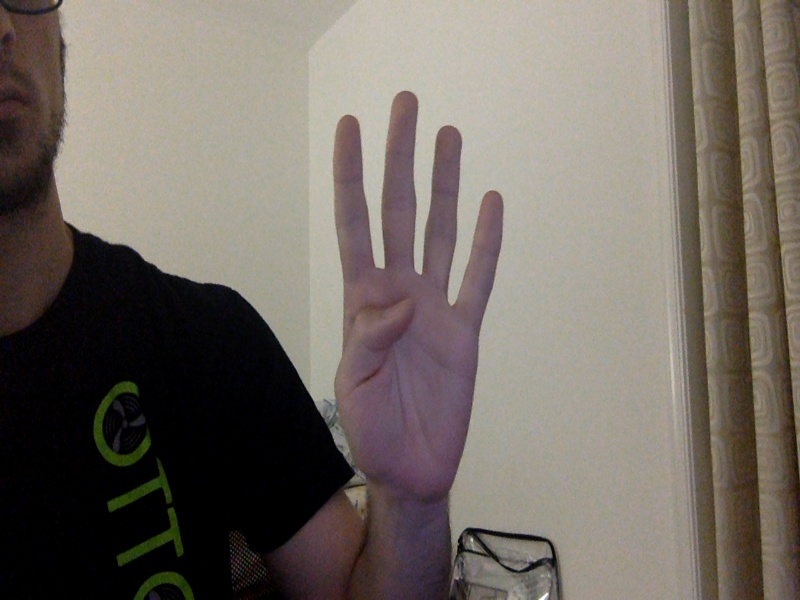4-hand: (332, 91, 503, 492)
